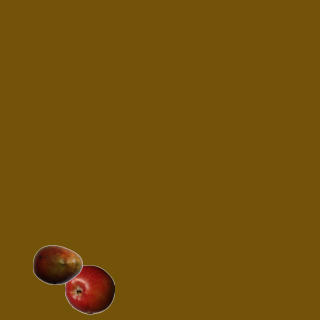Apple Braeburn: (64, 264, 114, 314)
Mango Red: (32, 239, 82, 289)
